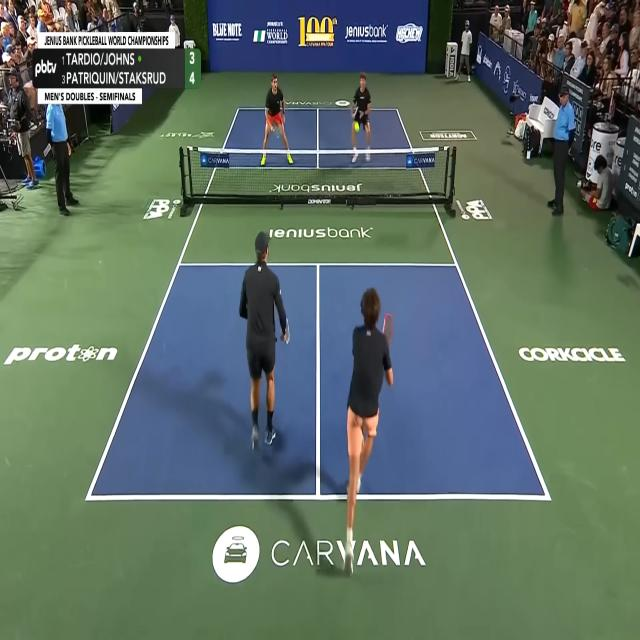ball: (354, 120, 360, 132)
